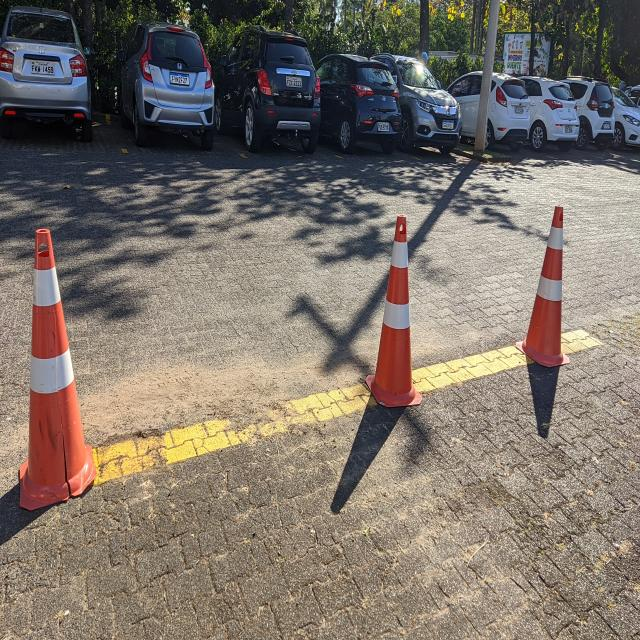cone: (15, 225, 99, 515), (363, 212, 425, 414), (514, 202, 572, 370)
